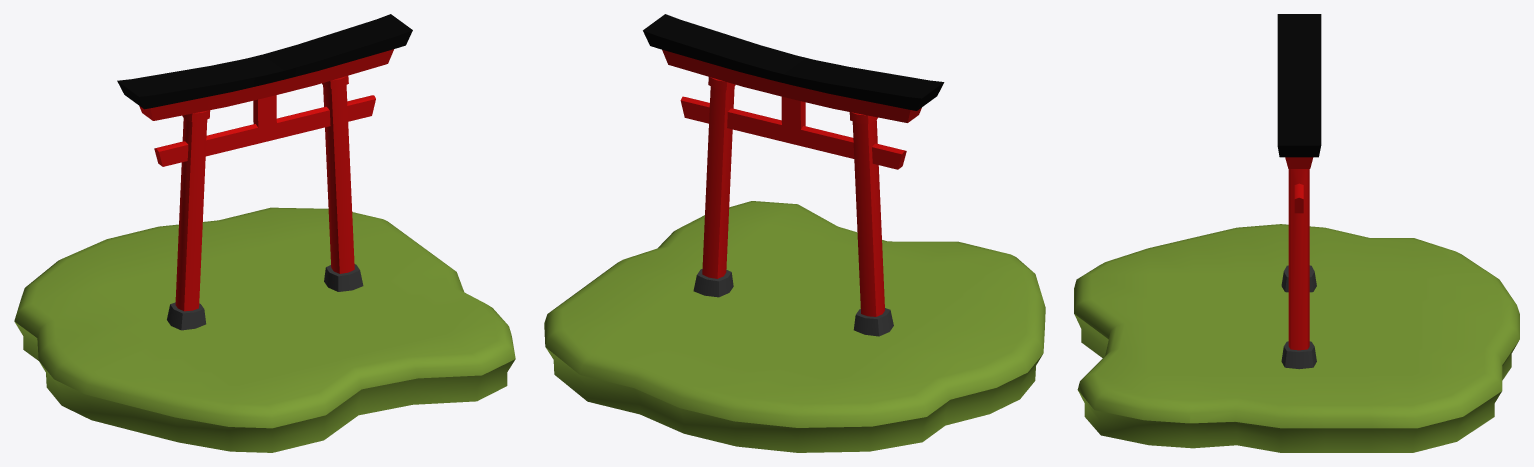
Rendered from JP-Portfolio.glb.
3 renders of one model, left to right at view 1: azimuth 30°, elevation 25°; view 2: azimuth 150°, elevation 25°; view 3: azimuth 270°, elevation 25°, orthographic. The views are drawn at different scales.
Parts seen in each view (by area): view 1: Plane, Plane.002; view 2: Plane, Plane.002; view 3: Plane, Plane.002.
Boxes of the visible parts, bbox=[...] form: Plane: bbox=[14, 207, 515, 452]; Plane.002: bbox=[117, 14, 412, 330]; Plane: bbox=[544, 201, 1045, 452]; Plane.002: bbox=[643, 14, 944, 336]; Plane: bbox=[1074, 224, 1519, 452]; Plane.002: bbox=[1277, 14, 1321, 369].
Bounding box in the file's own units: 20.64 × 14.2 × 19.95.
2 materials, 1 textured.
